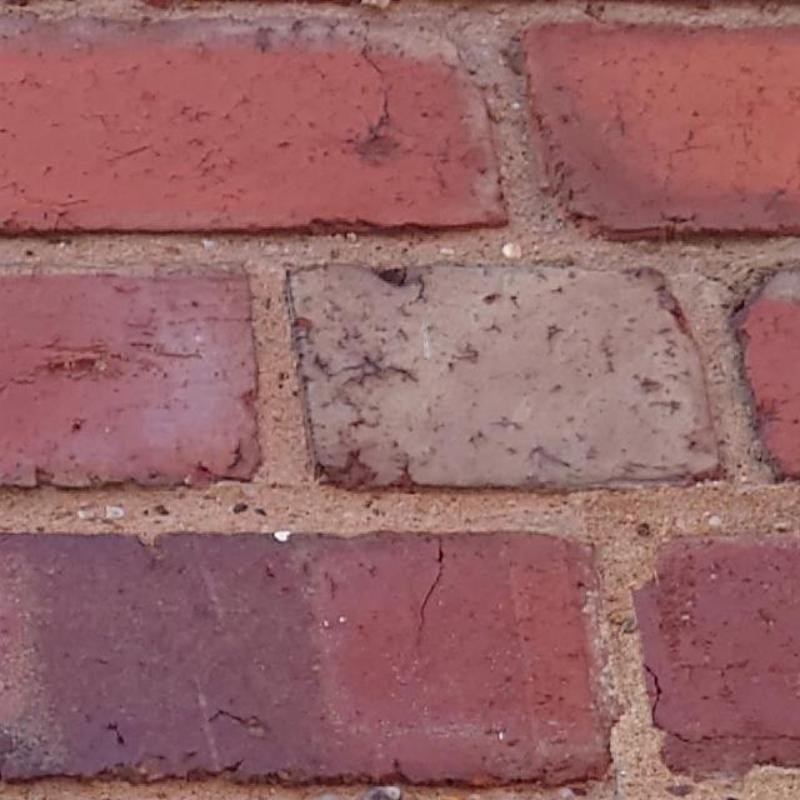pothole: (351, 18, 392, 154), (417, 535, 446, 645), (642, 664, 665, 731)
